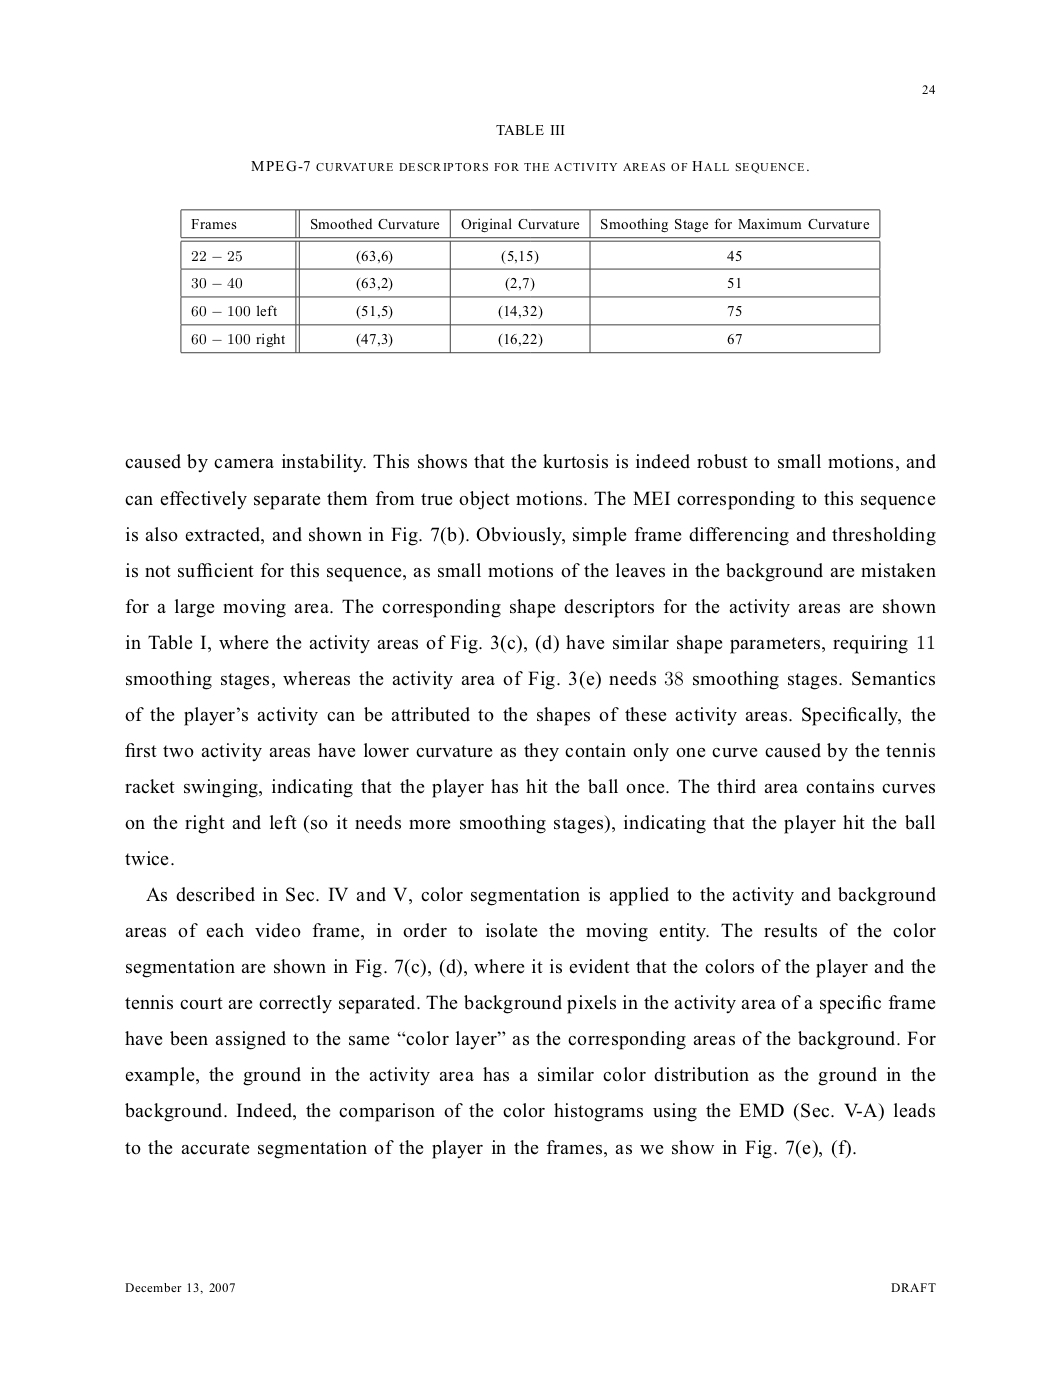Table: (181, 208, 880, 354)
